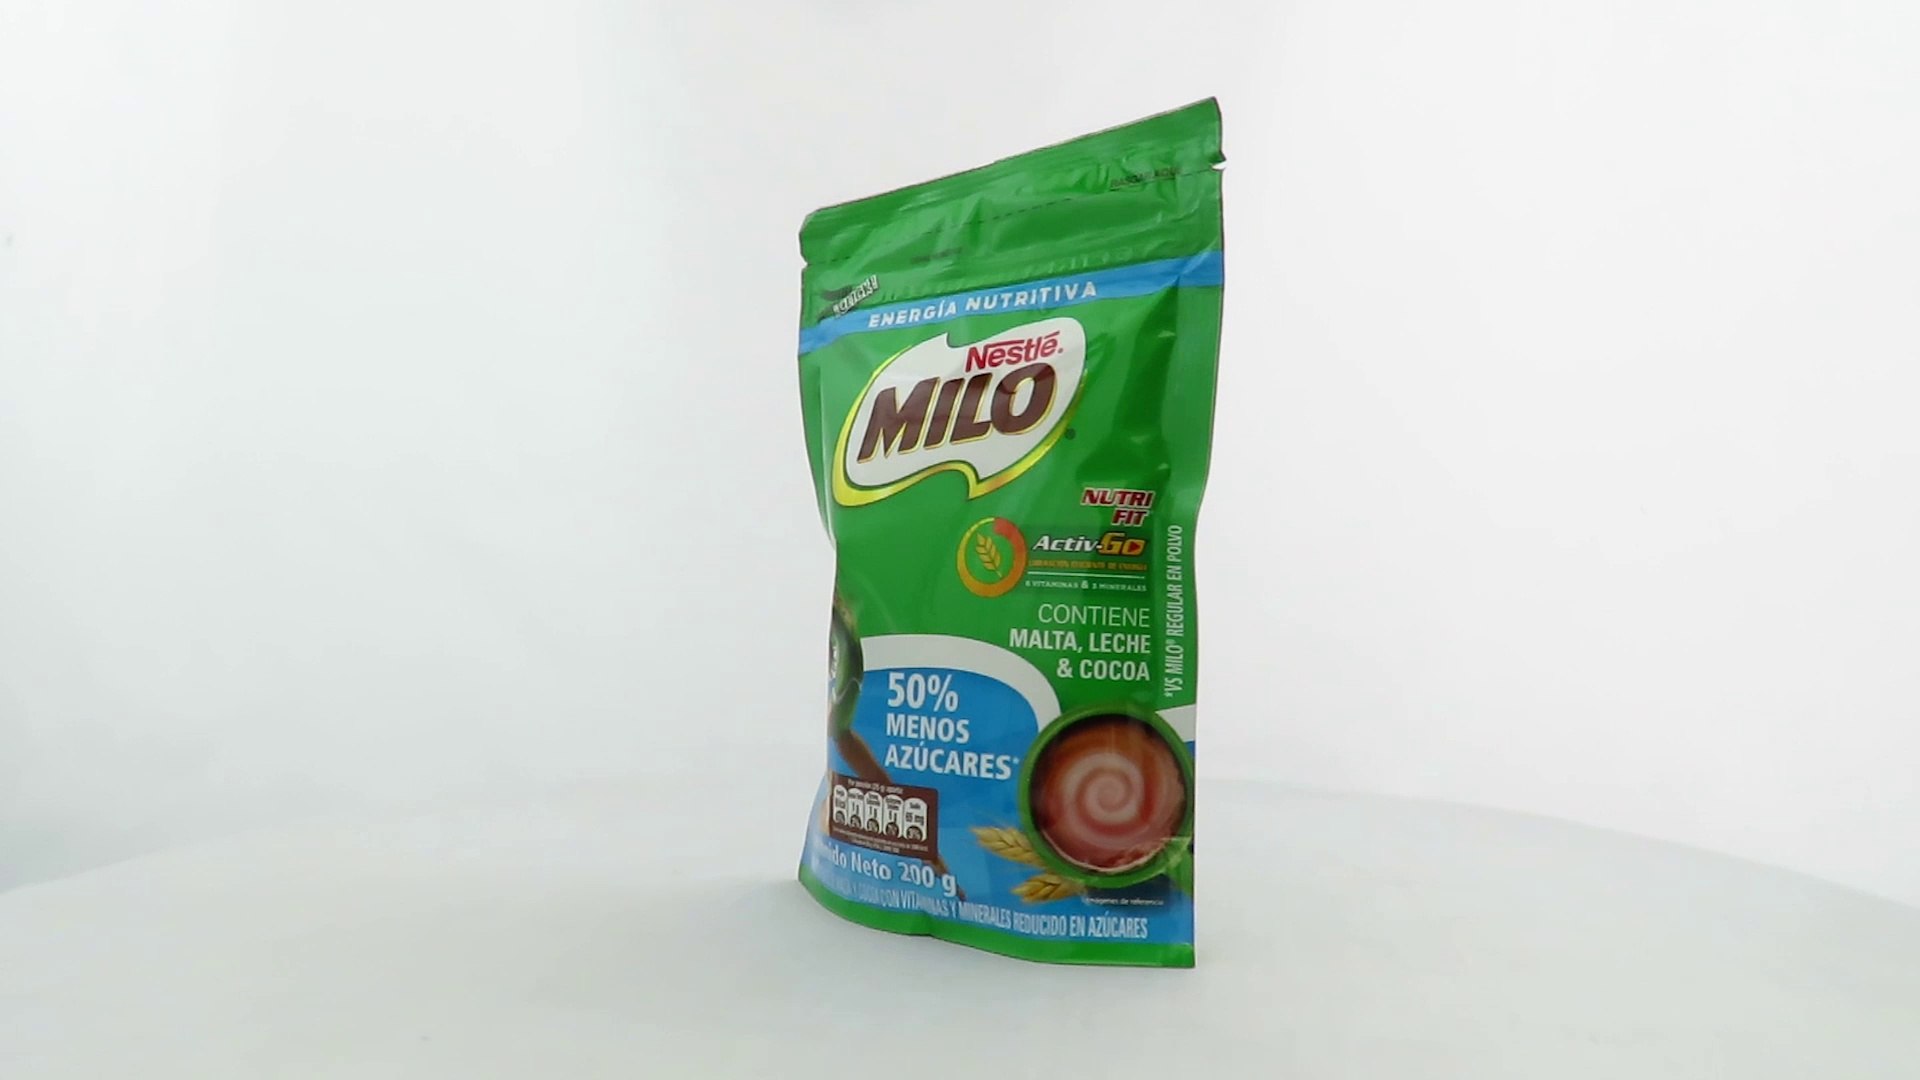COL0170205DYP20000: (793, 91, 1233, 975)
